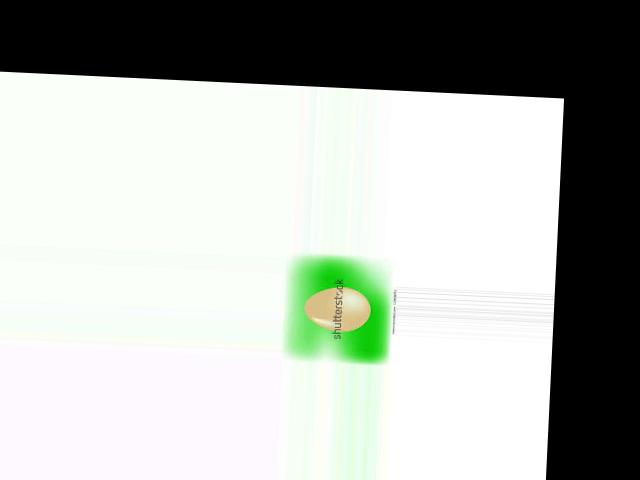egg: (303, 284, 371, 332)
